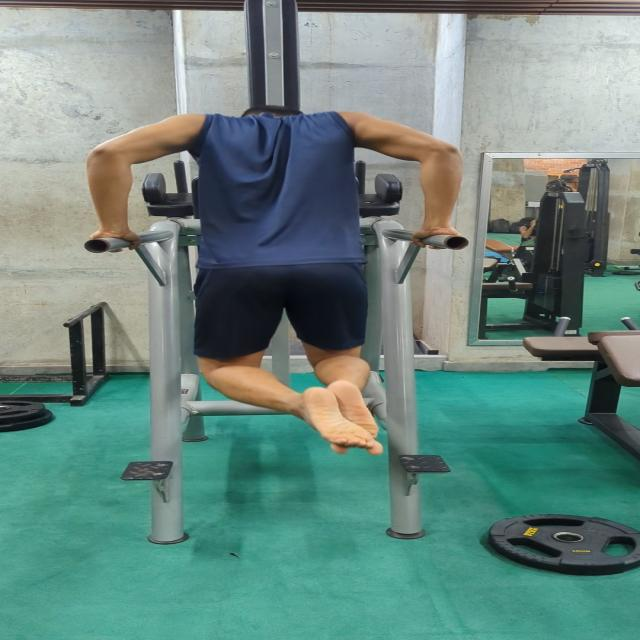Normal_Dips: (77, 97, 474, 463)
